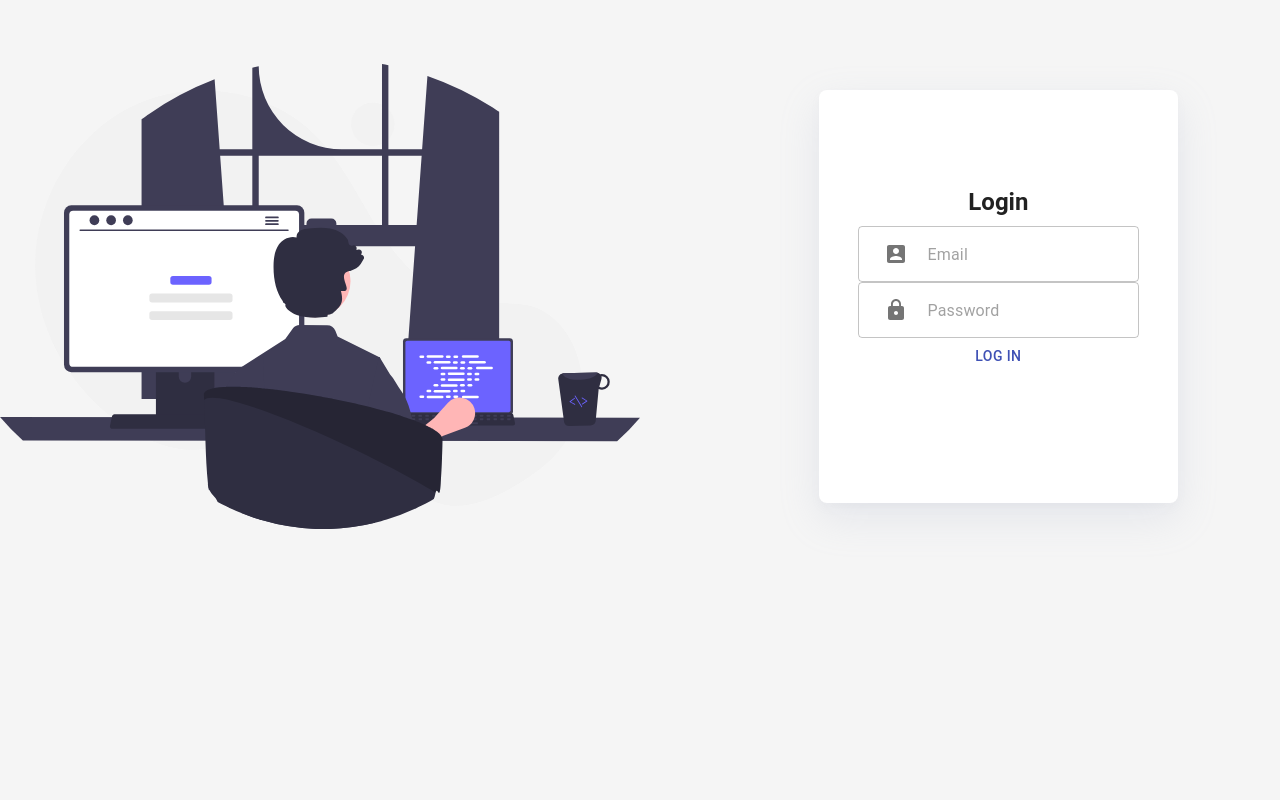
When user logins he should be taken to corresponding dashboard
Type "john@gmail.com" into the element with test id "email" at (998, 254), box [858,226,1139,282]
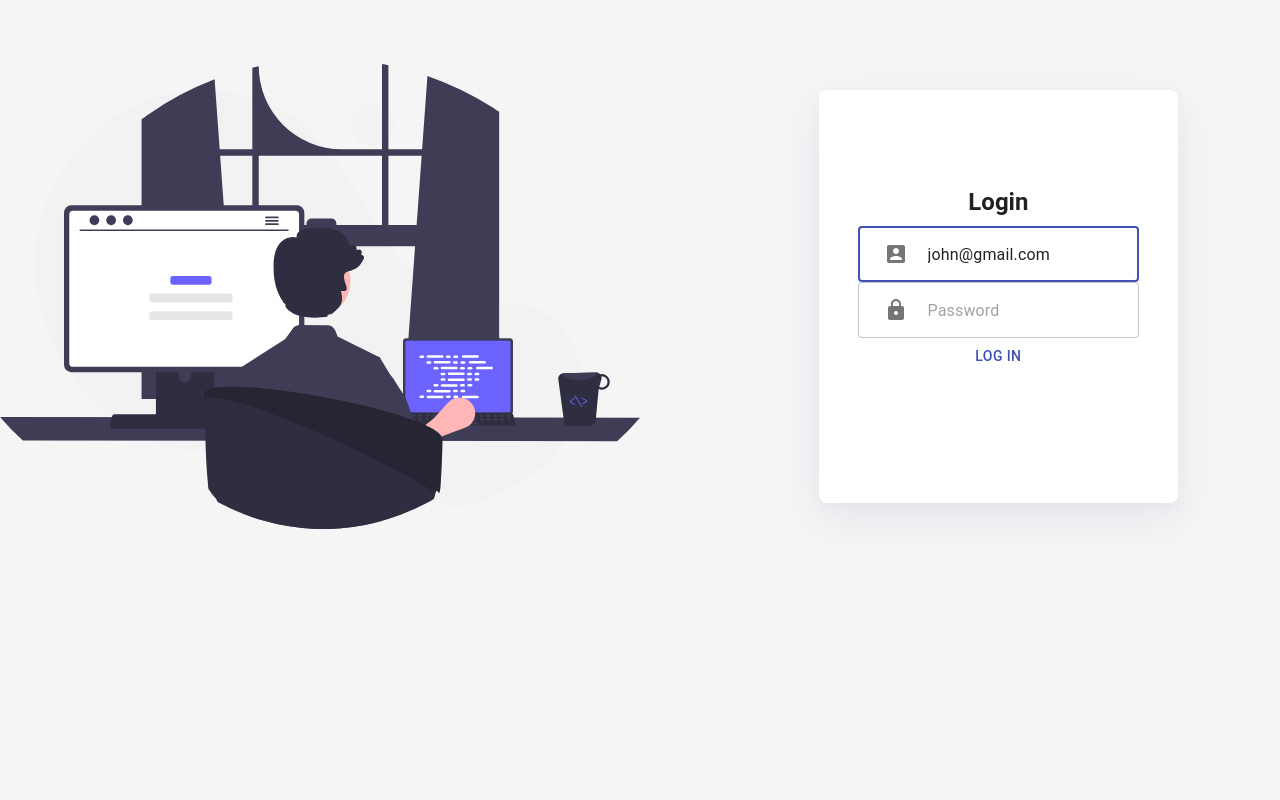
Type "12345678" into the element with test id "password" at (998, 310), box [858,282,1139,338]
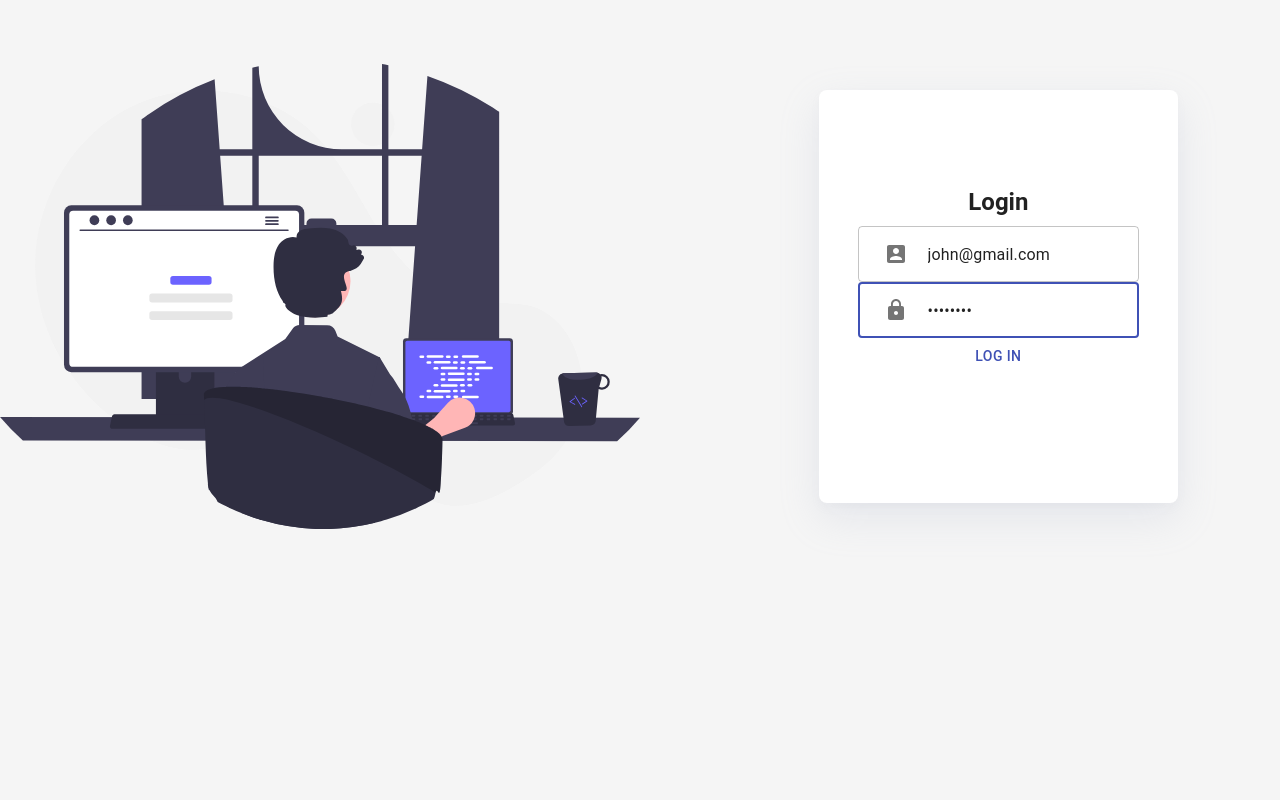
Click the button with test id "login-button" at (998, 356), box [858,338,1139,374]
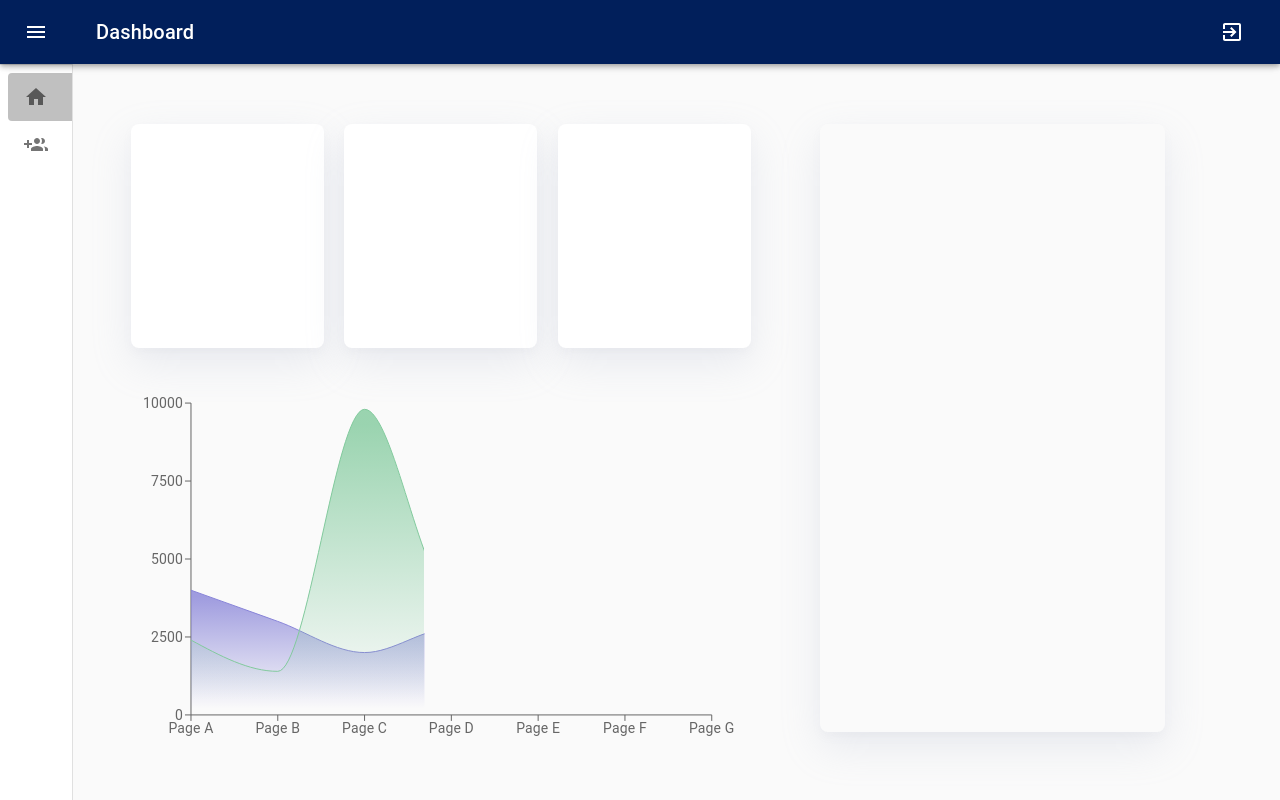
Expected: the heading "Dashboard" is shown, [96,20,194,44]
